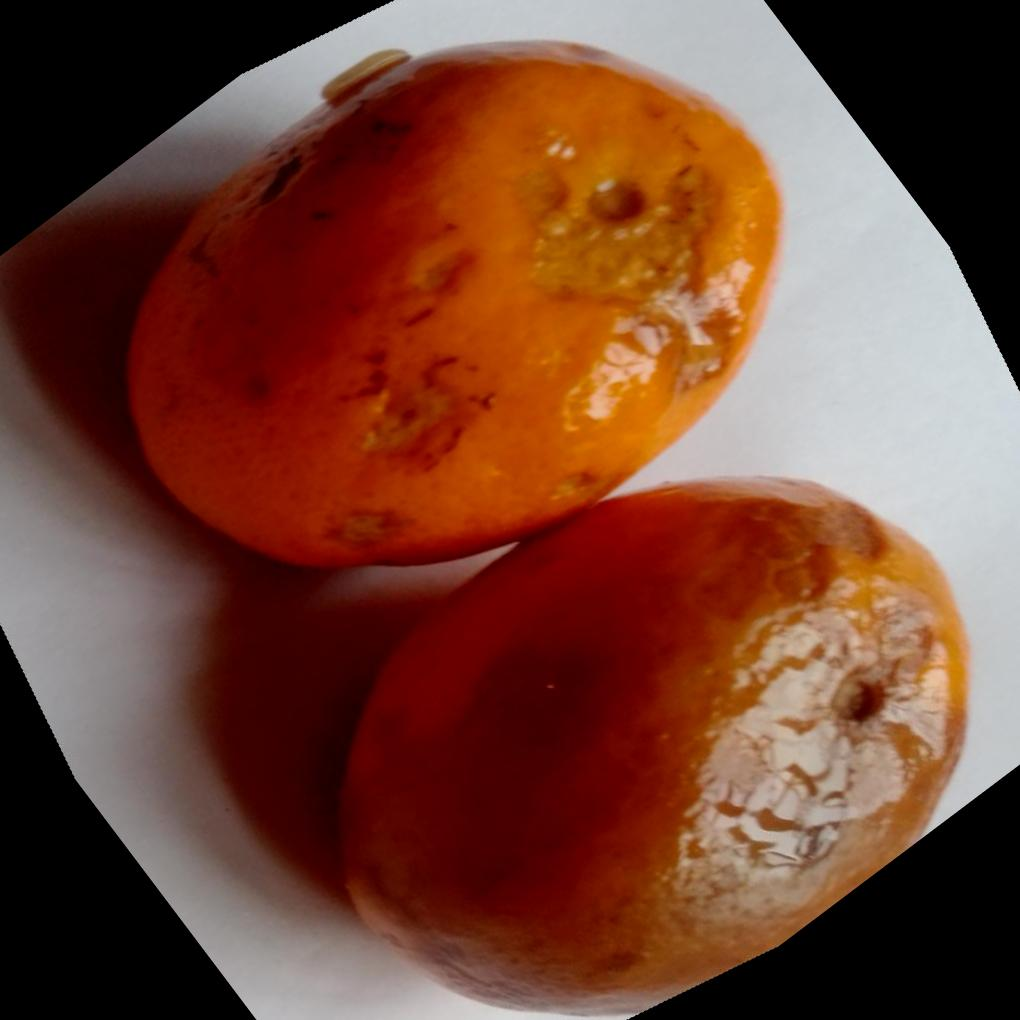FreshOrange: (116, 39, 971, 1020)
